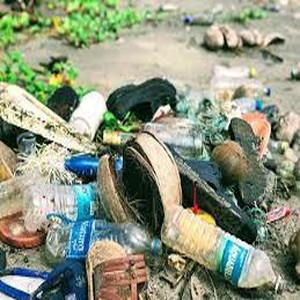Plastic: (163, 203, 288, 296)
